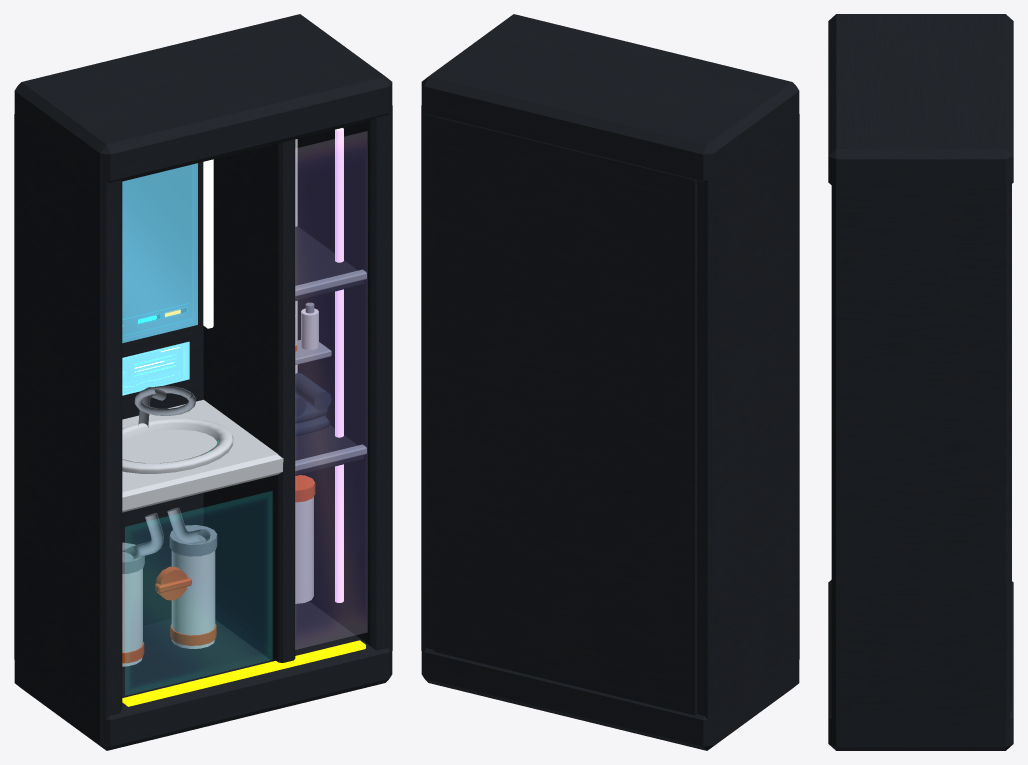
File: vanity_winner_01_dual_zone_grooming.glb
3 views of the same model, side by side, from view 1: azimuth 30°, elevation 25°; view 2: azimuth 150°, elevation 25°; view 3: azimuth 270°, elevation 25° (orthographic).
Parts seen in each view (by area): view 1: Vanity03_SplitBayGunmetalCabinet, Vanity03_RightTowerUVTranslucentDoor, Vanity03_WhiteBasinAndFilterCartridges, Vanity03_LeftBaySmartMirrorHUD, Vanity03_LowerLeftReclamationTranslucentWindow, Vanity03_MachinedHaloFaucetAndBezels, Vanity03_RightTowerUVVioletTubes, Vanity03_LeftBayOLEDTelemetry, Vanity03_LowerAmberStrip, Vanity03_SignalOrangeValvesAndCollars, Vanity03_LeftAlcoveIceWhiteBars, Vanity03_RightTowerOrbitalNavyTowels; view 2: Vanity03_SplitBayGunmetalCabinet; view 3: Vanity03_SplitBayGunmetalCabinet.
Part boxes in pixels (x1,y1,x2,y2): Vanity03_SplitBayGunmetalCabinet: (14, 14, 392, 750); Vanity03_RightTowerUVTranslucentDoor: (295, 132, 366, 649); Vanity03_WhiteBasinAndFilterCartridges: (122, 139, 318, 666); Vanity03_LeftBaySmartMirrorHUD: (122, 163, 197, 343); Vanity03_LowerLeftReclamationTranslucentWindow: (125, 491, 271, 694); Vanity03_MachinedHaloFaucetAndBezels: (122, 269, 366, 573); Vanity03_RightTowerUVVioletTubes: (335, 128, 343, 602); Vanity03_LeftBayOLEDTelemetry: (122, 341, 189, 395); Vanity03_LowerAmberStrip: (122, 640, 365, 706); Vanity03_SignalOrangeValvesAndCollars: (122, 345, 315, 663); Vanity03_LeftAlcoveIceWhiteBars: (203, 159, 213, 328); Vanity03_RightTowerOrbitalNavyTowels: (295, 373, 331, 436); Vanity03_SplitBayGunmetalCabinet: (421, 14, 799, 750); Vanity03_SplitBayGunmetalCabinet: (828, 14, 1013, 750).
Size of the model in its own units: 1.05 by 2.08 by 0.58.
13 materials, 13 textured.
